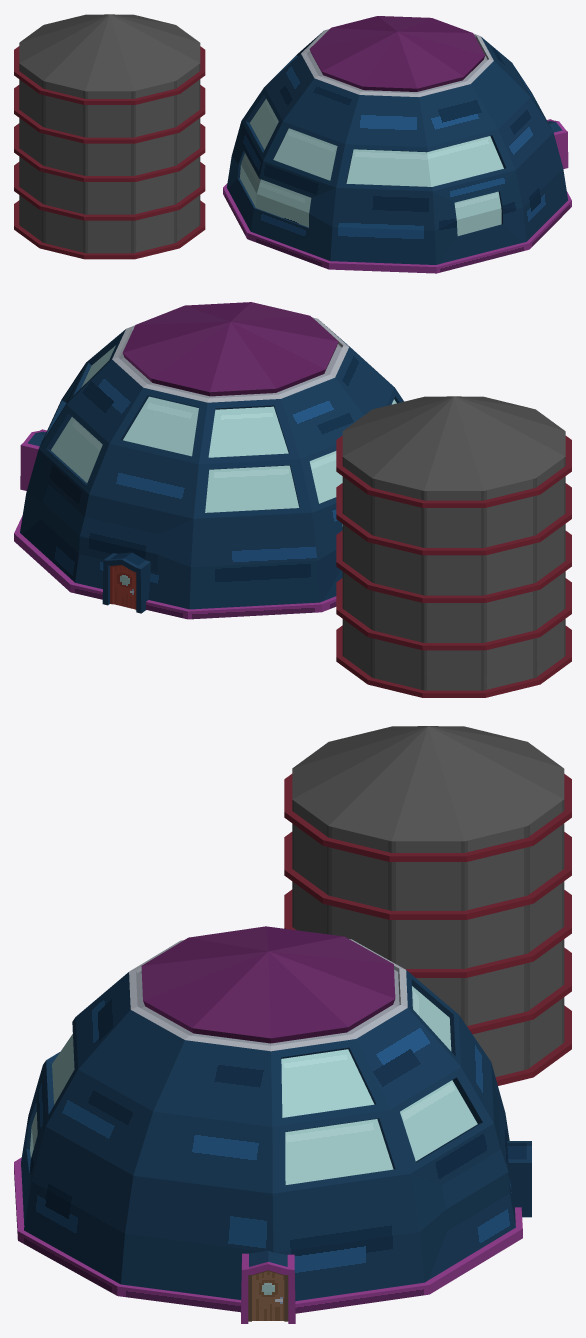
File: W.house_Indigo.gltf
The picture shows the model from 3 angles, top to bottom: view 1: azimuth 30°, elevation 25°; view 2: azimuth 150°, elevation 25°; view 3: azimuth 270°, elevation 25°; orthographic projection. The views are drawn at different scales.
Visible parts, largest first — view 1: s3_2, cylinder; view 2: s3_2, cylinder; view 3: s3_2, cylinder.
Part boxes in pixels (x1,y1,x2,y2): s3_2: [223, 16, 571, 273]; cylinder: [14, 14, 205, 259]; s3_2: [14, 302, 403, 619]; cylinder: [336, 396, 571, 697]; s3_2: [14, 926, 531, 1323]; cylinder: [284, 726, 571, 1085].
Bounding box in the file's own units: 9.75 × 3.98 × 6.55.
2 materials, 2 textured.
